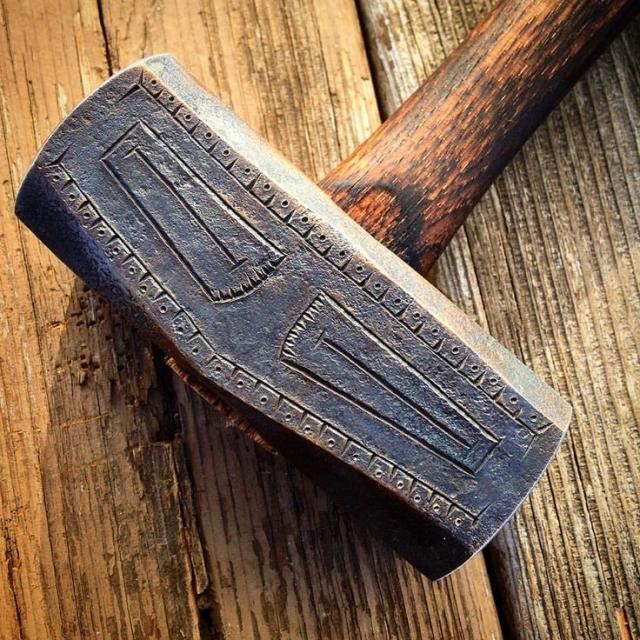hammer: (8, 0, 640, 591)
